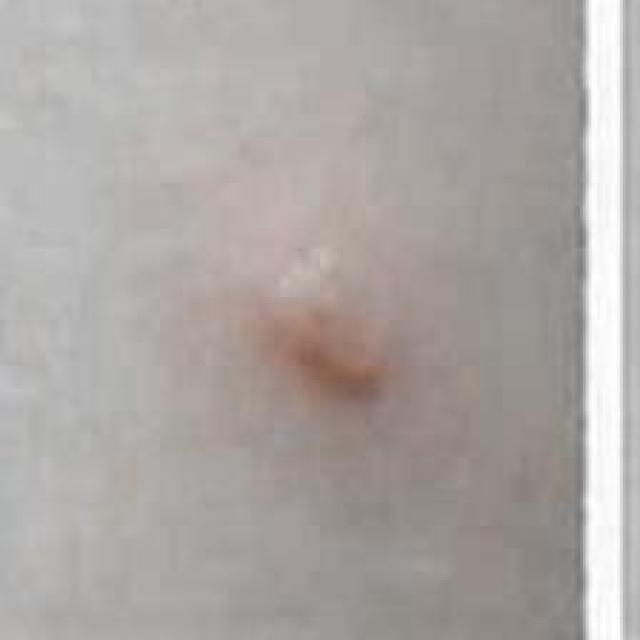others: (0, 2, 593, 631)
